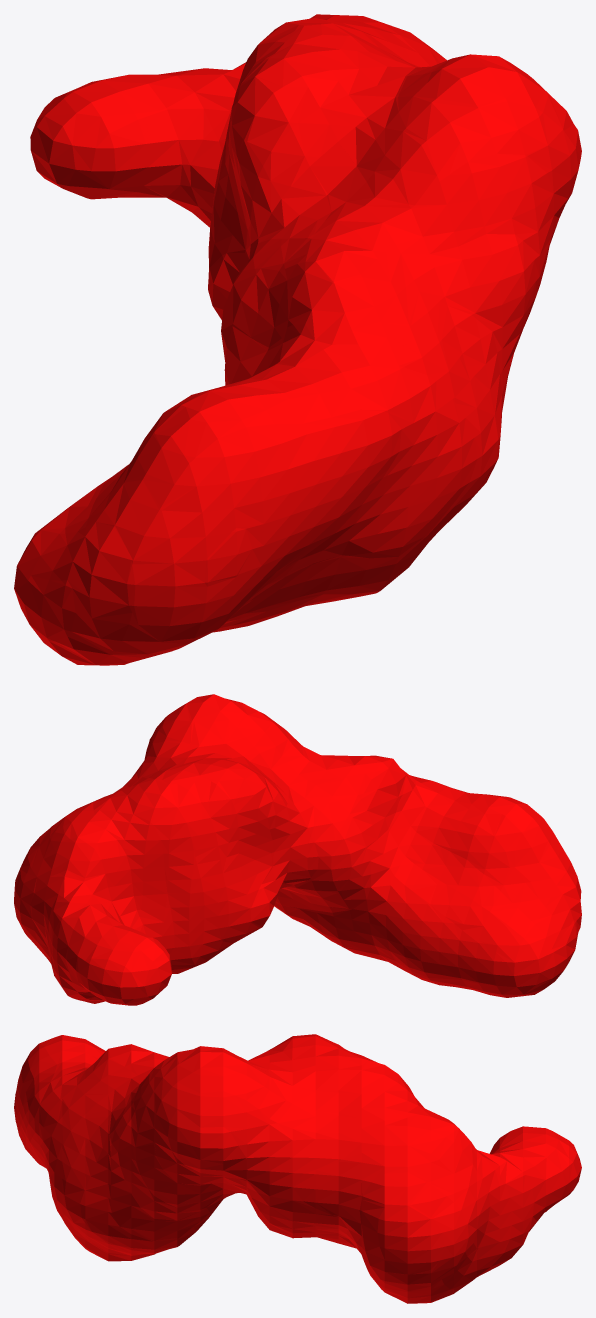
File: rpsN_coarse.dae
3 renders of one model, top to bottom at view 1: azimuth 30°, elevation 25°; view 2: azimuth 150°, elevation 25°; view 3: azimuth 270°, elevation 25°, orthographic. The views are drawn at different scales.
Parts seen in each view (by area): view 1: rpsN; view 2: rpsN; view 3: rpsN.
Boxes of the visible parts, x1=… form: rpsN: x1=14, y1=14, x2=581, y2=665; rpsN: x1=14, y1=694, x2=581, y2=1005; rpsN: x1=14, y1=1034, x2=581, y2=1303.
Size of the model in its own units: 52.83 by 32.52 by 60.58.
